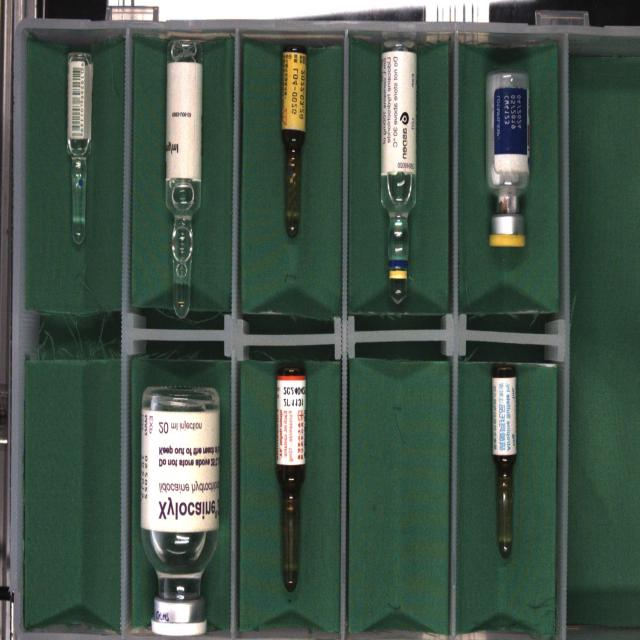Vials: (141, 388, 219, 636), (486, 71, 529, 247)
